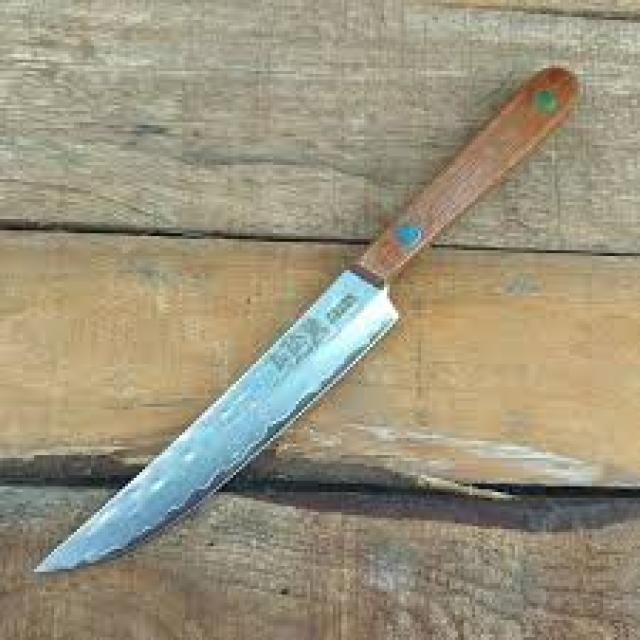Knife: (34, 65, 577, 572)
